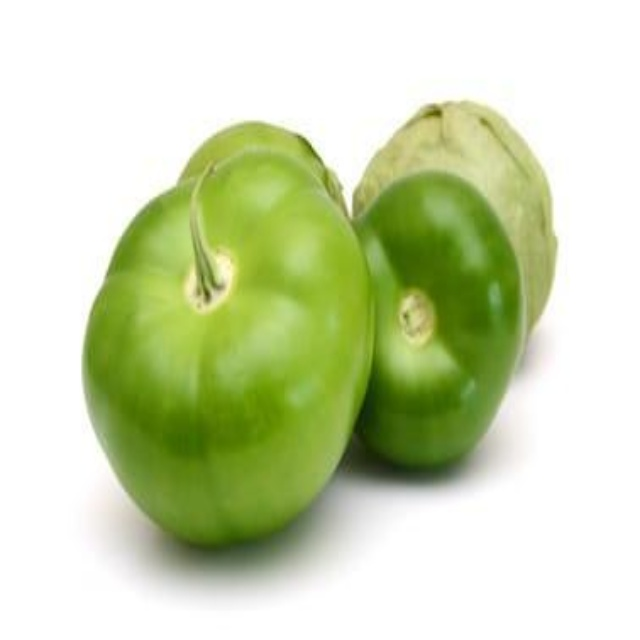tomato: (86, 160, 383, 564), (331, 178, 531, 479)
